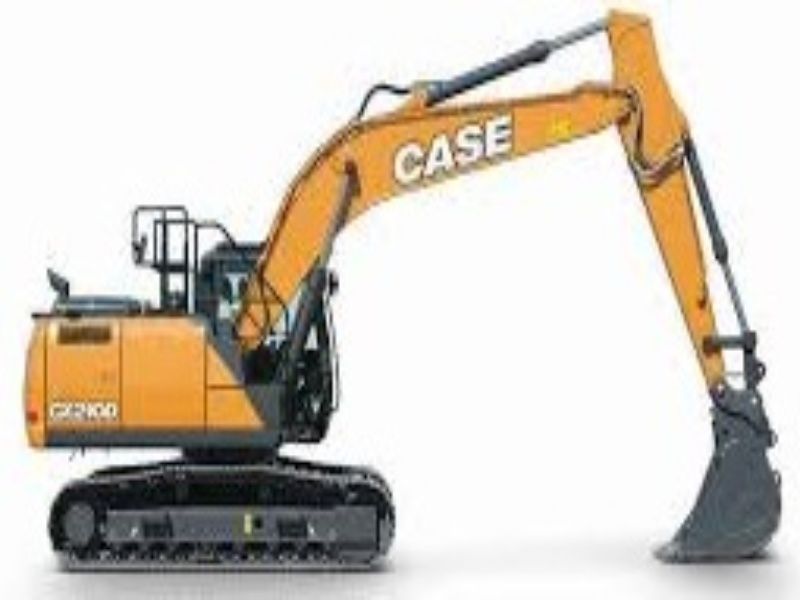wajueji: (14, 158, 461, 600)
